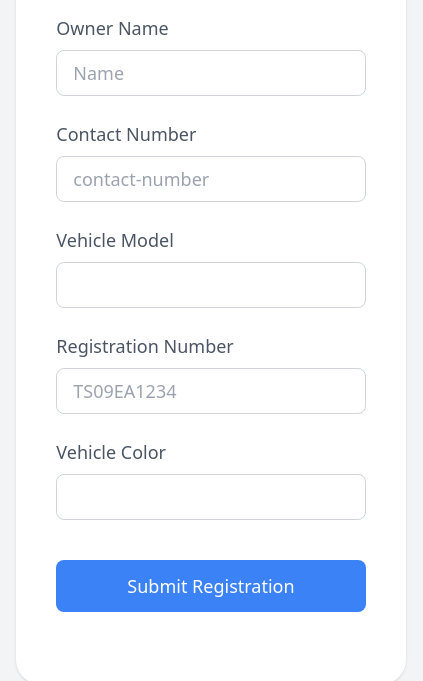
Test: Vehicle registeration component › Should return error if form name is not filled
(page scrolled)
What coordinates should you click on to do the following:
click the button
I would click on:
 (211, 586)
Its box is [56,560,366,612].
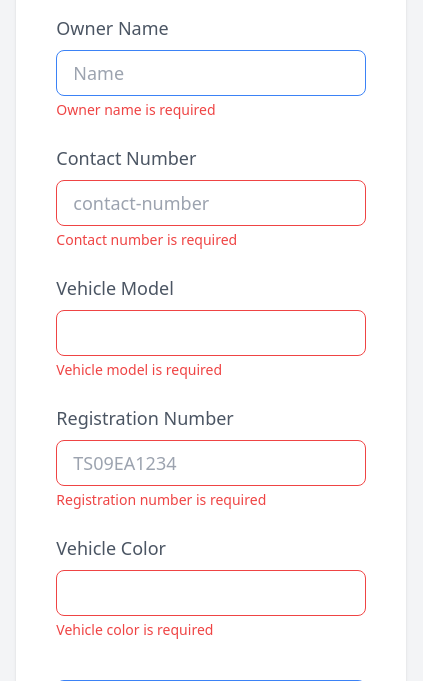
Expected: the text "Owner name is required" is shown, [56,100,216,119]
